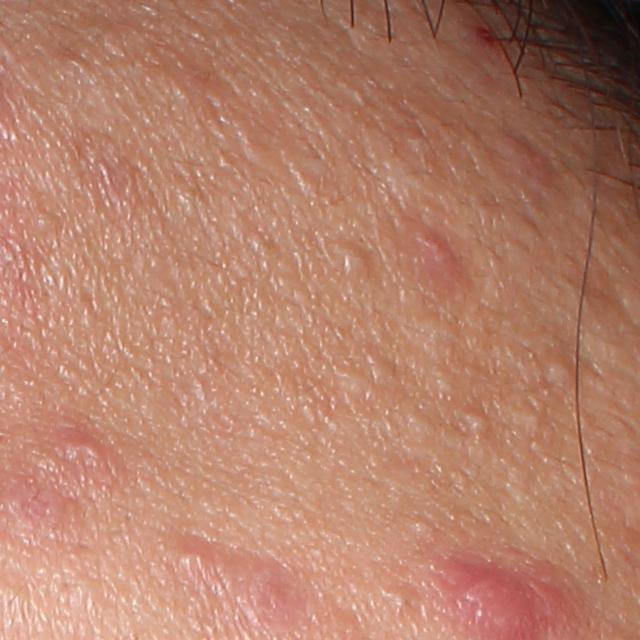comedo: (331, 232, 379, 282), (430, 365, 463, 396), (546, 356, 575, 385), (409, 516, 439, 541), (459, 410, 487, 434), (392, 586, 416, 607)
papule: (239, 561, 302, 624), (0, 480, 65, 540), (500, 127, 555, 189), (58, 424, 115, 470), (173, 539, 230, 581)
